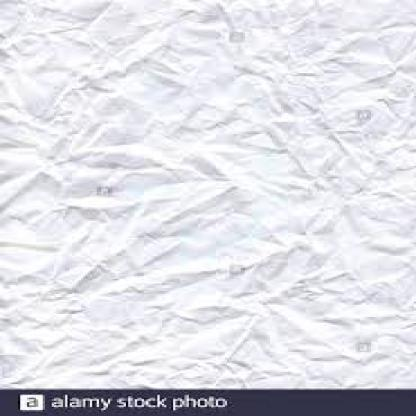paper: (0, 0, 414, 387)
